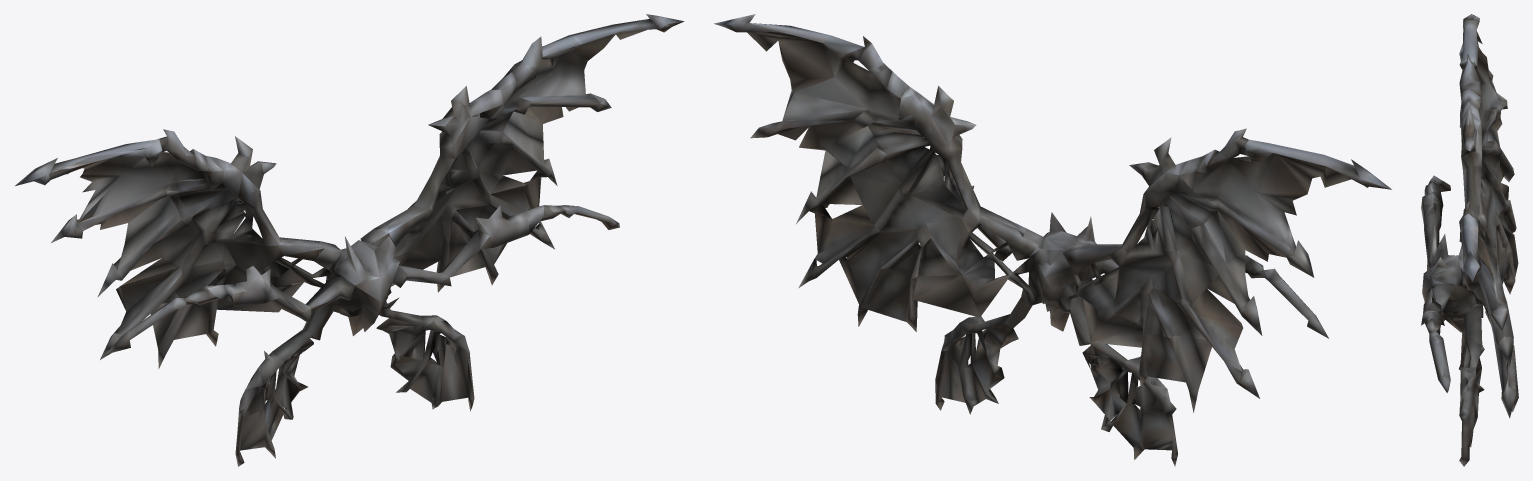
Rendered from 2250钢铁翅膀4.fbx.
3 renders of one model, left to right at view 1: azimuth 30°, elevation 25°; view 2: azimuth 150°, elevation 25°; view 3: azimuth 270°, elevation 25°, orthographic. The views are drawn at different scales.
Parts seen in each view (by area): view 1: geometry_0.004; view 2: geometry_0.004; view 3: geometry_0.004.
Part boxes in pixels (box(x1,y1,x2,y2)): geometry_0.004: box(15, 14, 684, 466); geometry_0.004: box(714, 14, 1391, 466); geometry_0.004: box(1421, 14, 1518, 466).
Bounding box in the file's own units: 96.81 × 49.14 × 14.9.
